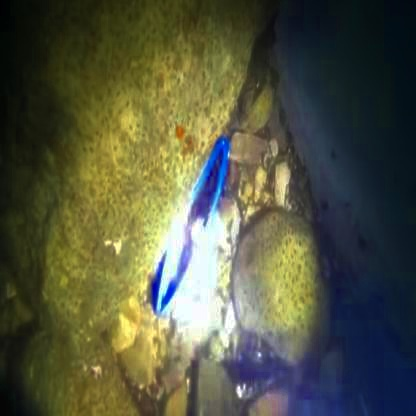sunglasses: (148, 123, 243, 334)
